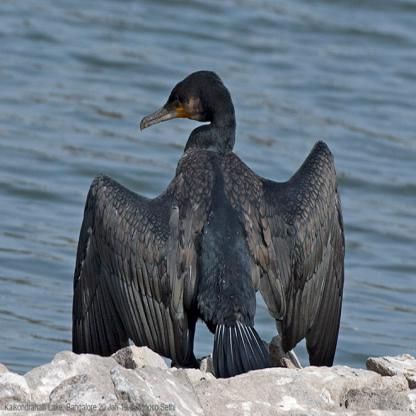Burung: (72, 67, 342, 366)
